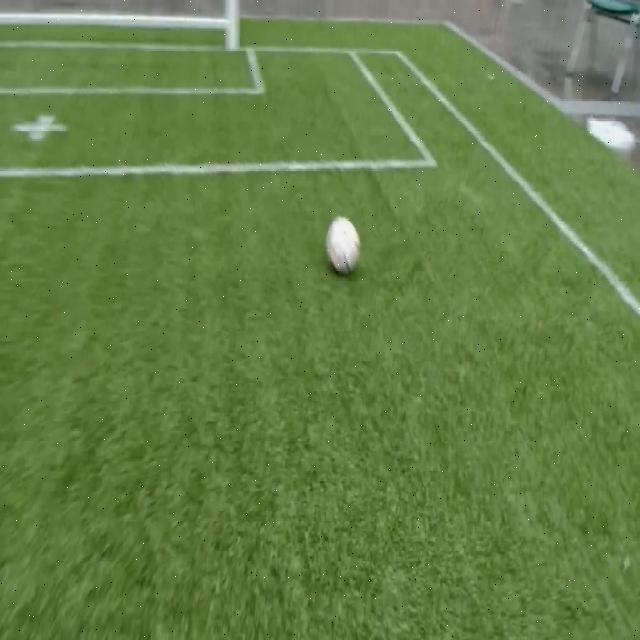ball: (326, 215, 360, 273)
goalpost: (225, 17, 242, 56)
